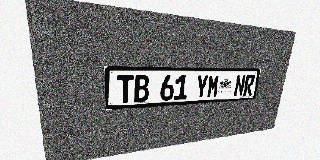1: (174, 75, 188, 100)
6: (160, 75, 175, 101)
B: (134, 75, 149, 103)
M: (206, 75, 220, 98)
N: (233, 75, 246, 96)
R: (243, 75, 255, 96)
T: (117, 75, 133, 104)
Y: (195, 75, 209, 99)
